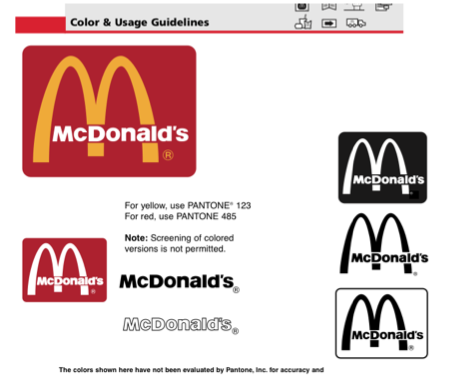mcdonalds: (32, 52, 159, 164), (337, 211, 414, 272), (341, 135, 410, 193), (340, 294, 409, 348), (341, 294, 409, 348), (26, 242, 92, 294)
